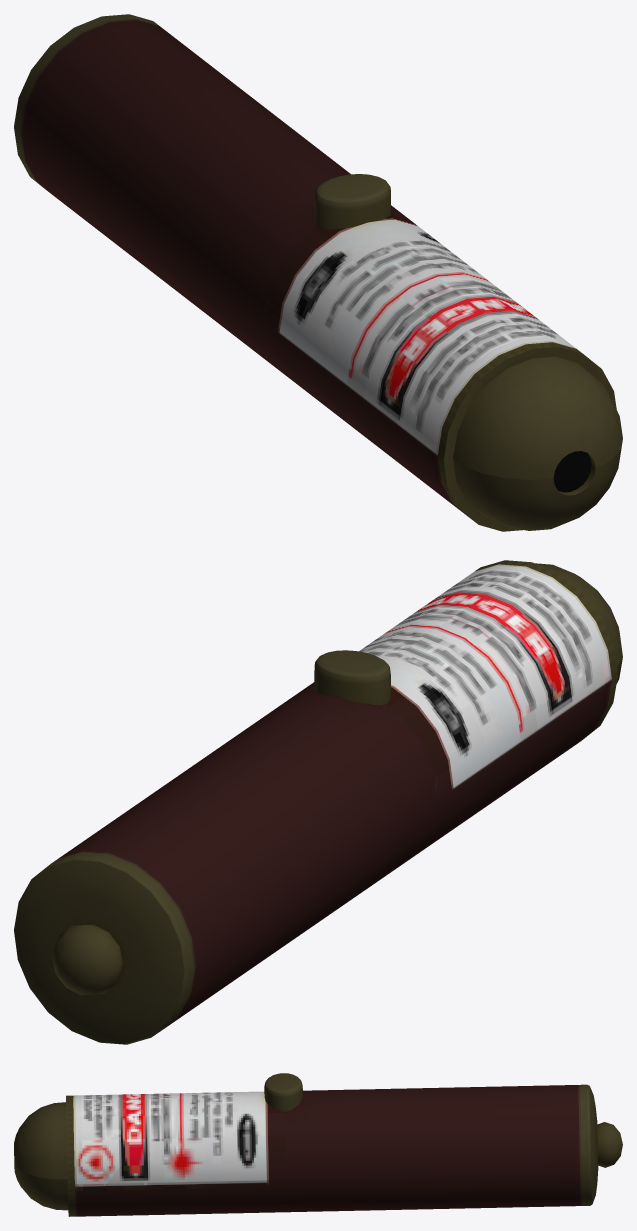
Rendered from ref_gtlaserpen.glb.
3 renders of one model, top to bottom at view 1: azimuth 30°, elevation 25°; view 2: azimuth 150°, elevation 25°; view 3: azimuth 270°, elevation 25°, orthographic. The views are drawn at different scales.
Visible parts, largest first — view 1: ref_gtlaserpen; view 2: ref_gtlaserpen; view 3: ref_gtlaserpen.
Boxes of the visible parts, x1,y1,x2,y2 form: ref_gtlaserpen: [14, 14, 622, 531]; ref_gtlaserpen: [14, 560, 622, 1044]; ref_gtlaserpen: [14, 1073, 622, 1216].
Size of the model in its own units: 0.2005 by 0.2357 by 1.
1 material, 1 textured.
